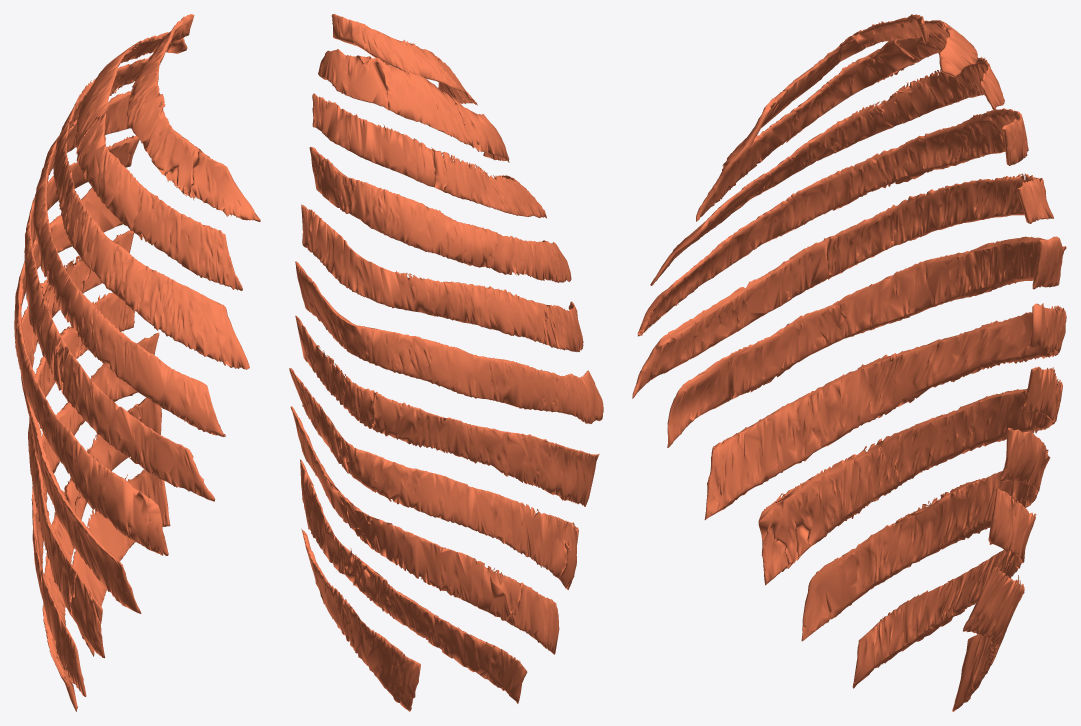
File: External_intercostal_muscles.r_Generated_Mesh_From_X3D.879.glb
3 renders of one model, left to right at view 1: azimuth 30°, elevation 25°; view 2: azimuth 150°, elevation 25°; view 3: azimuth 270°, elevation 25°, orthographic. The views are drawn at different scales.
Parts seen in each view (by area): view 1: External_intercostal_muscles.r_Generated_Mesh_From_X3D.879; view 2: External_intercostal_muscles.r_Generated_Mesh_From_X3D.879; view 3: External_intercostal_muscles.r_Generated_Mesh_From_X3D.879.
Part boxes in pixels (x1,y1,x2,y2): External_intercostal_muscles.r_Generated_Mesh_From_X3D.879: (14, 14, 260, 711); External_intercostal_muscles.r_Generated_Mesh_From_X3D.879: (289, 14, 603, 711); External_intercostal_muscles.r_Generated_Mesh_From_X3D.879: (632, 14, 1066, 711).
Size of the model in its own units: 0.1119 by 0.3721 by 0.1949.
